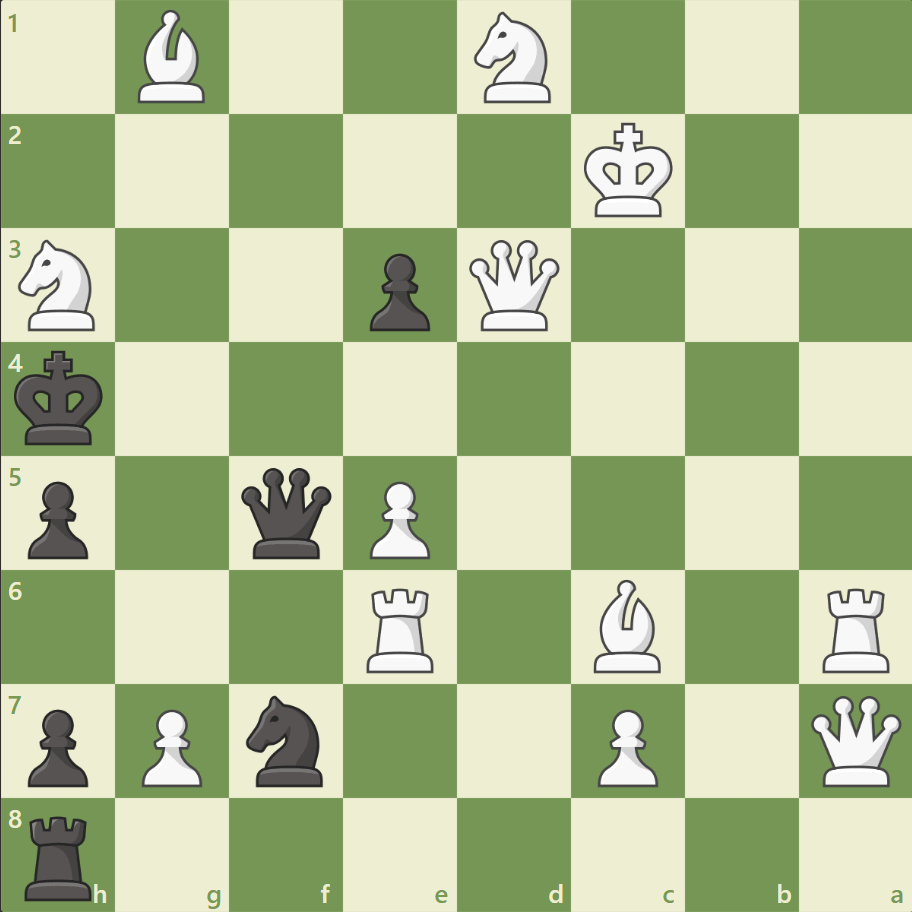B: (131, 6, 215, 109), (585, 574, 669, 676)
K: (579, 117, 679, 225)
N: (11, 234, 108, 337), (465, 7, 562, 110)
P: (133, 700, 208, 791), (588, 700, 662, 791), (361, 473, 435, 564)
Q: (805, 690, 904, 789), (464, 236, 563, 335)
R: (814, 579, 897, 676), (360, 579, 442, 676)
k: (11, 344, 111, 452)
n: (238, 688, 335, 791)
p: (20, 700, 95, 791), (20, 473, 95, 564), (361, 246, 435, 337)
q: (237, 463, 336, 562)
r: (19, 806, 102, 904)
